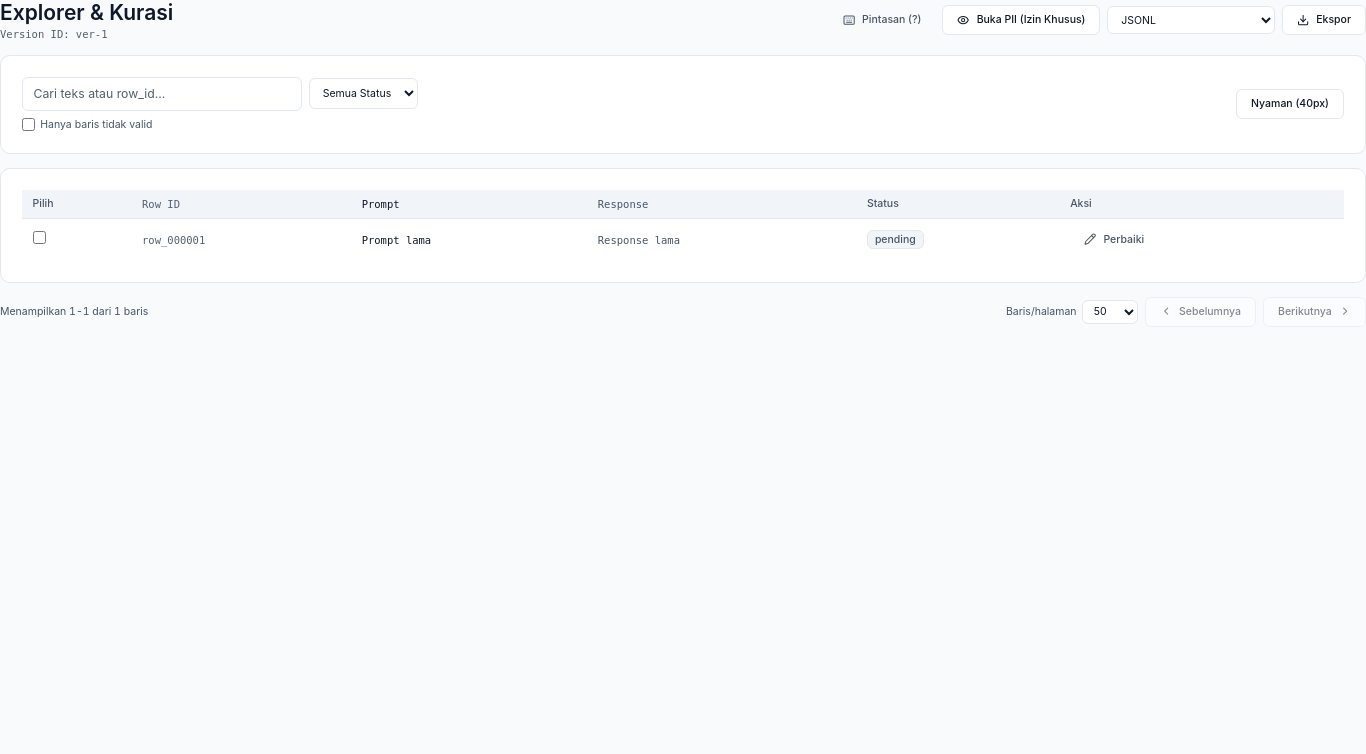
Stage 1 Hotfixes UI › edits prompt and response separately for structured SFT rows (BUG-03)
Click the button "Perbaiki" at (1114, 240), box [1070,226,1158,254]
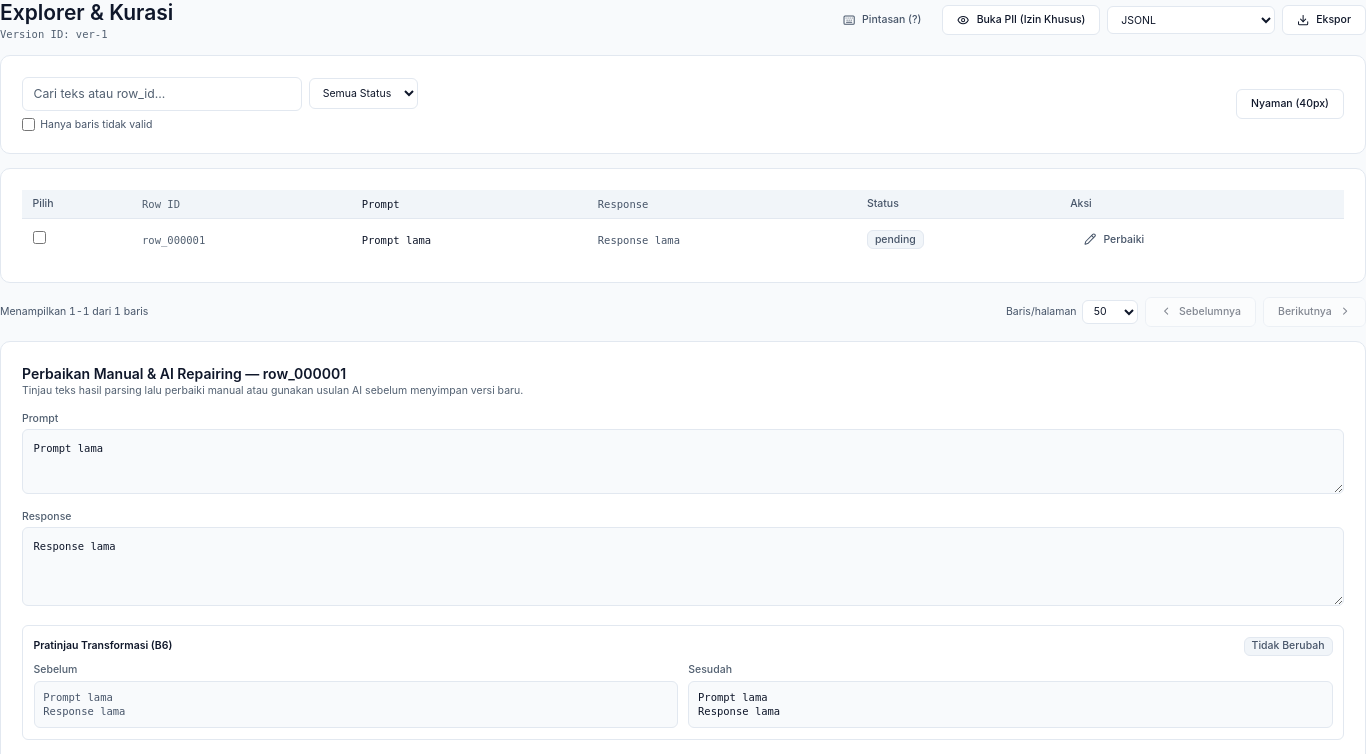
Expected: the text box labelled "Prompt" holds "Prompt lama"
Expected: the text box labelled "Response" holds "Response lama", [22,527,1344,606]
Replace the text in the text box labelled "Prompt" with "Prompt baru" at (683, 462), box [22,429,1344,494]
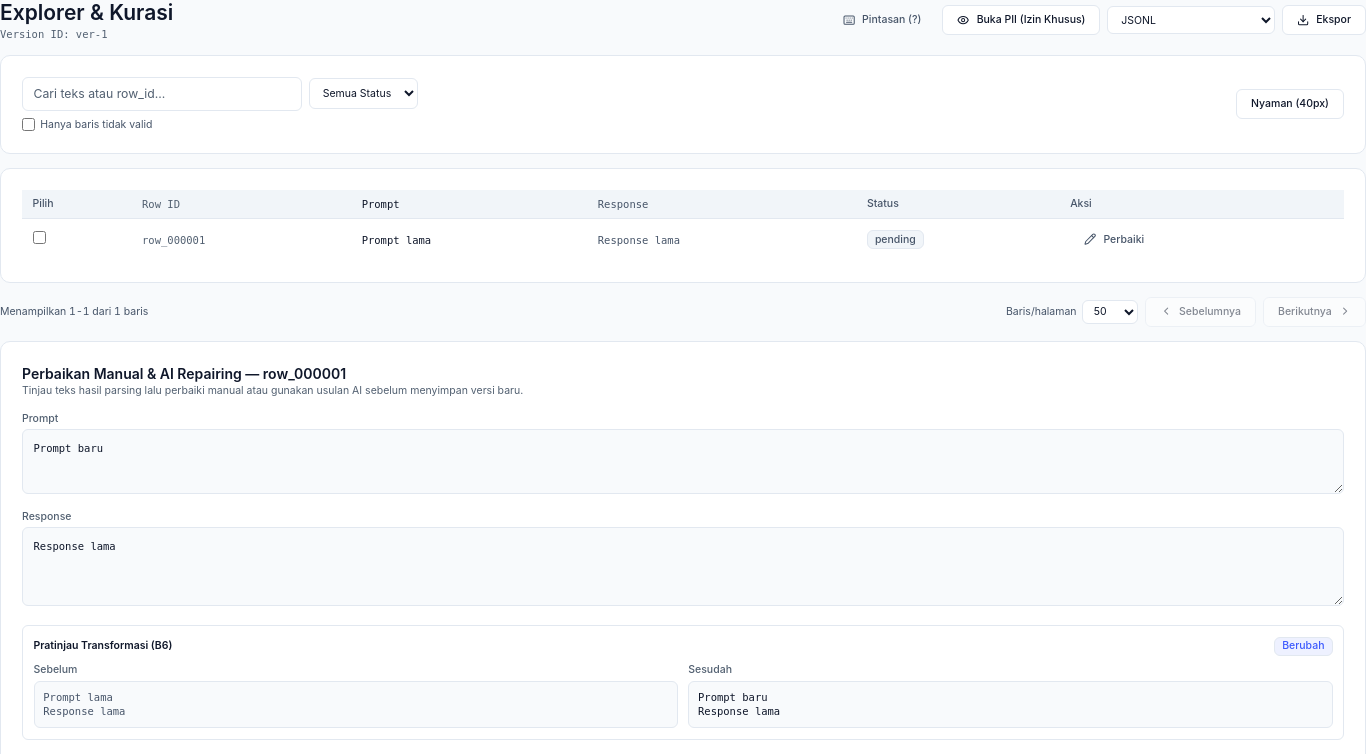
Replace the text in the text box labelled "Response" with "Response baru" at (683, 566), box [22,527,1344,606]
(page scrolled)
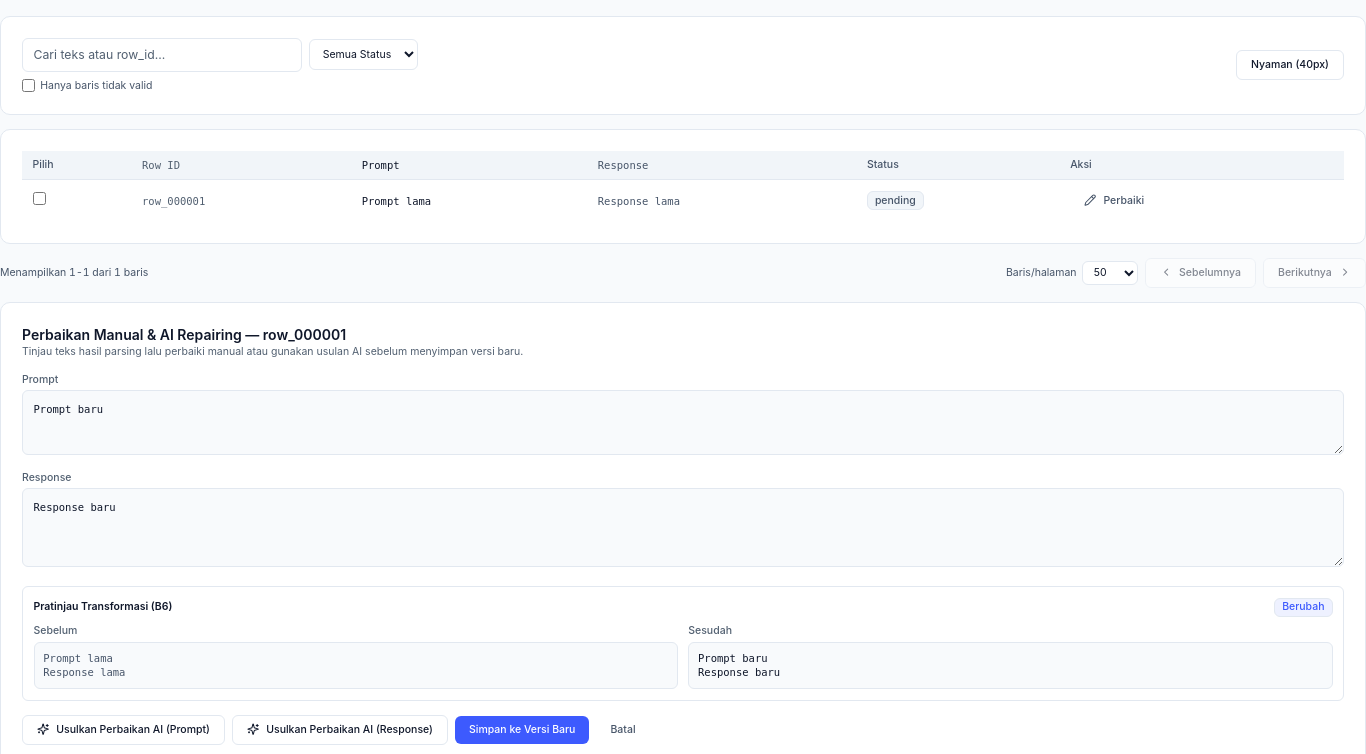
Click the button "Simpan ke Versi Baru" at (522, 730), box [455,716,590,744]
(page scrolled)
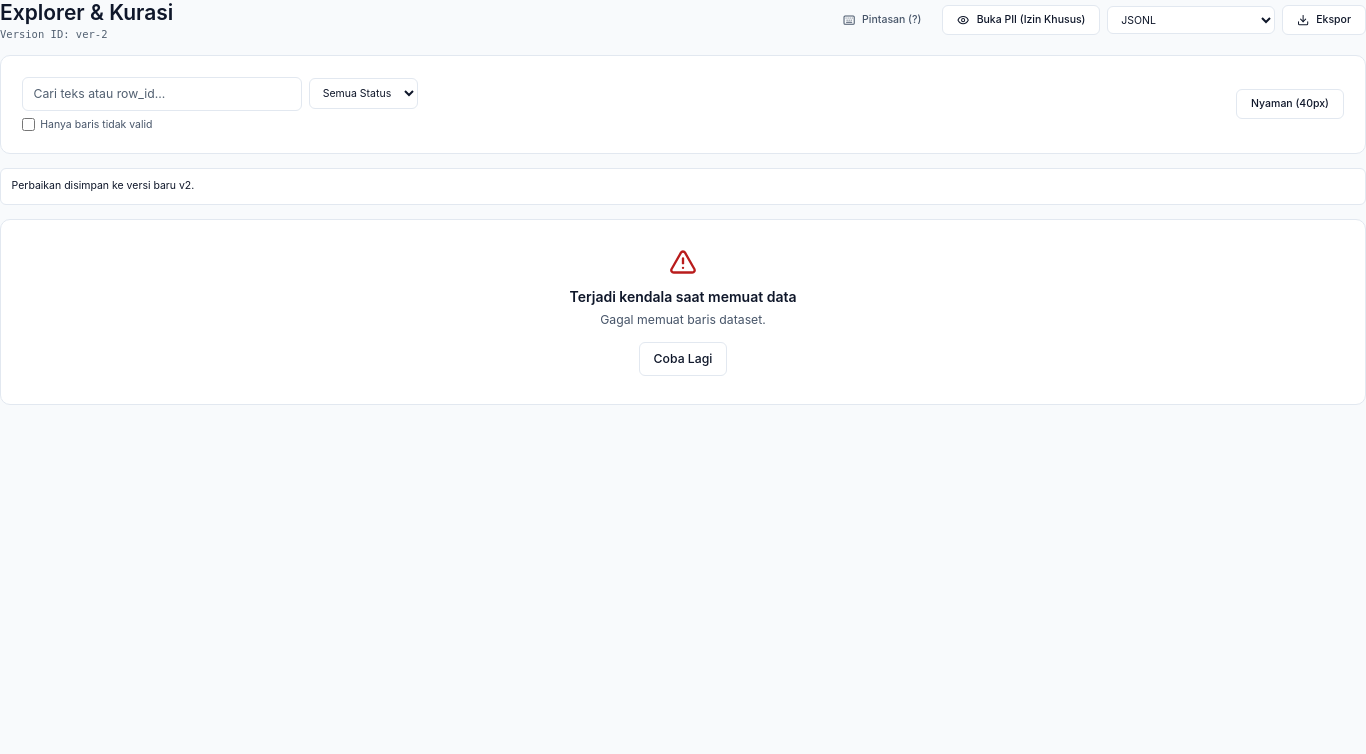
Expected: the text "Perbaikan disimpan ke versi baru v2." is shown, [0,168,1365,204]
